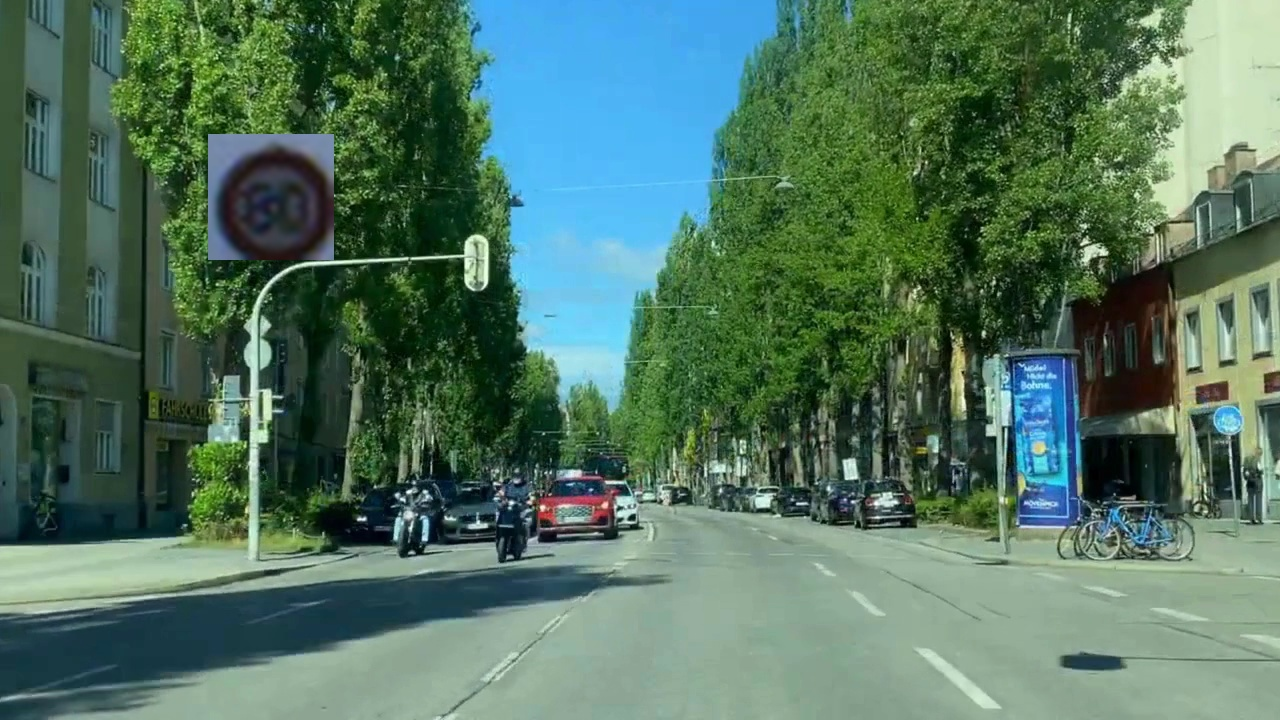Speed 80: (208, 134, 334, 260)
